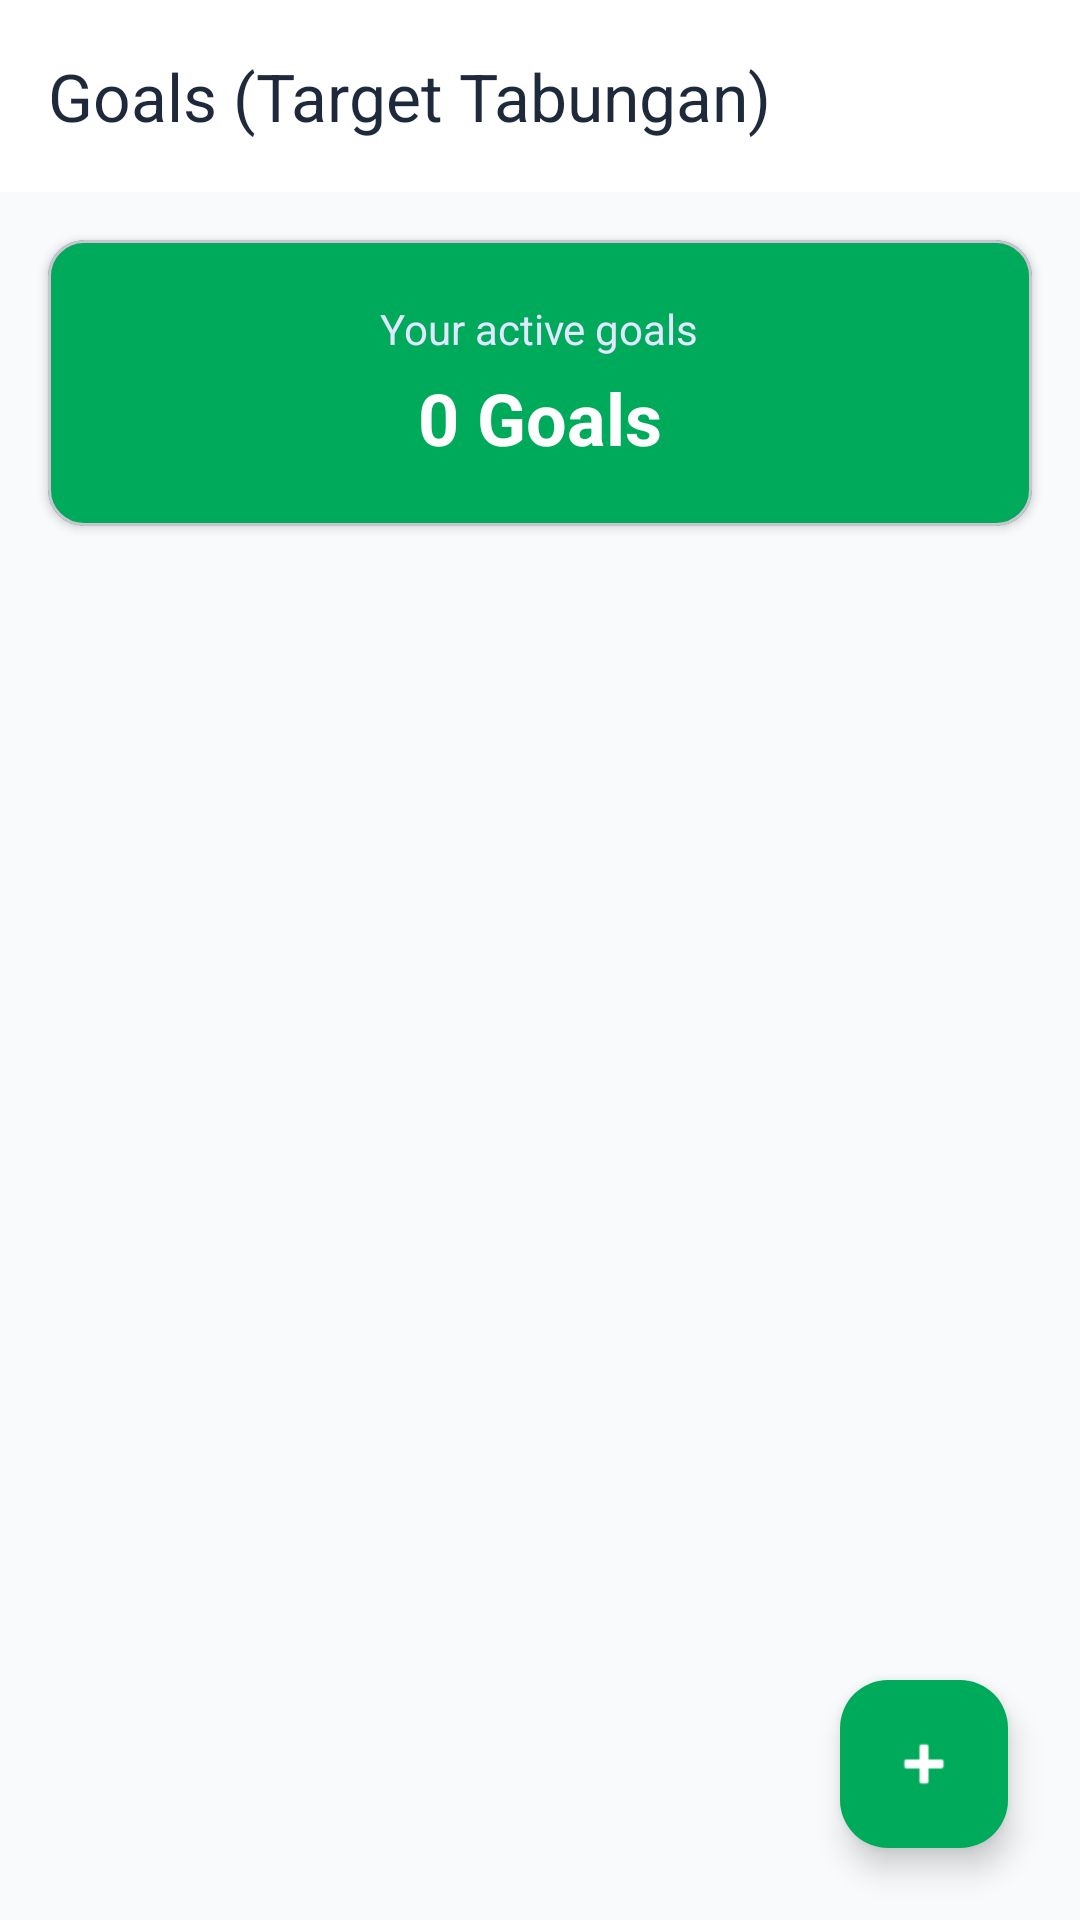

Screen size 1080 x 1920. Icon name, then its box in pixels as rect(x1, y1, x2, y2):
Add Goal: rect(840, 1680, 1008, 1848)
